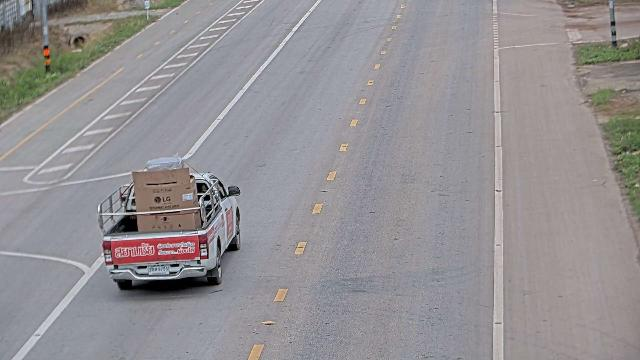pickup-truck: (96, 155, 242, 290)
